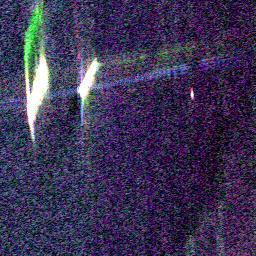Ship: (22, 54, 51, 120), (75, 59, 106, 95), (185, 87, 197, 101)
